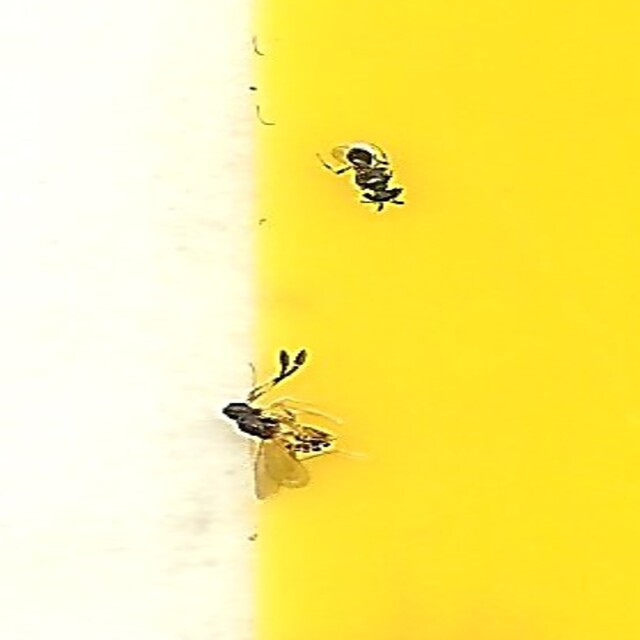Hymenoptera: (229, 349, 349, 498), (319, 142, 411, 213)
